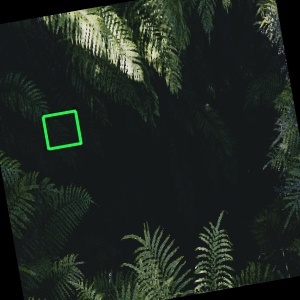square: (39, 107, 86, 153)
